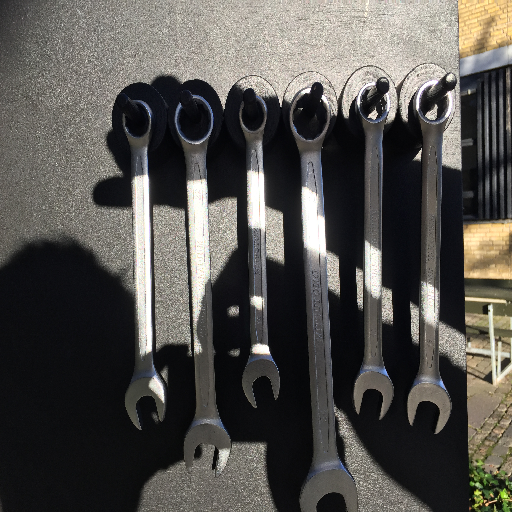bottom: (298, 465, 362, 512), (182, 417, 233, 475), (405, 376, 453, 436), (123, 374, 168, 432), (352, 365, 396, 421), (240, 356, 282, 409)
top: (287, 85, 332, 149), (173, 93, 216, 148), (412, 79, 456, 130), (355, 81, 391, 130), (118, 98, 157, 143), (237, 93, 270, 138)
